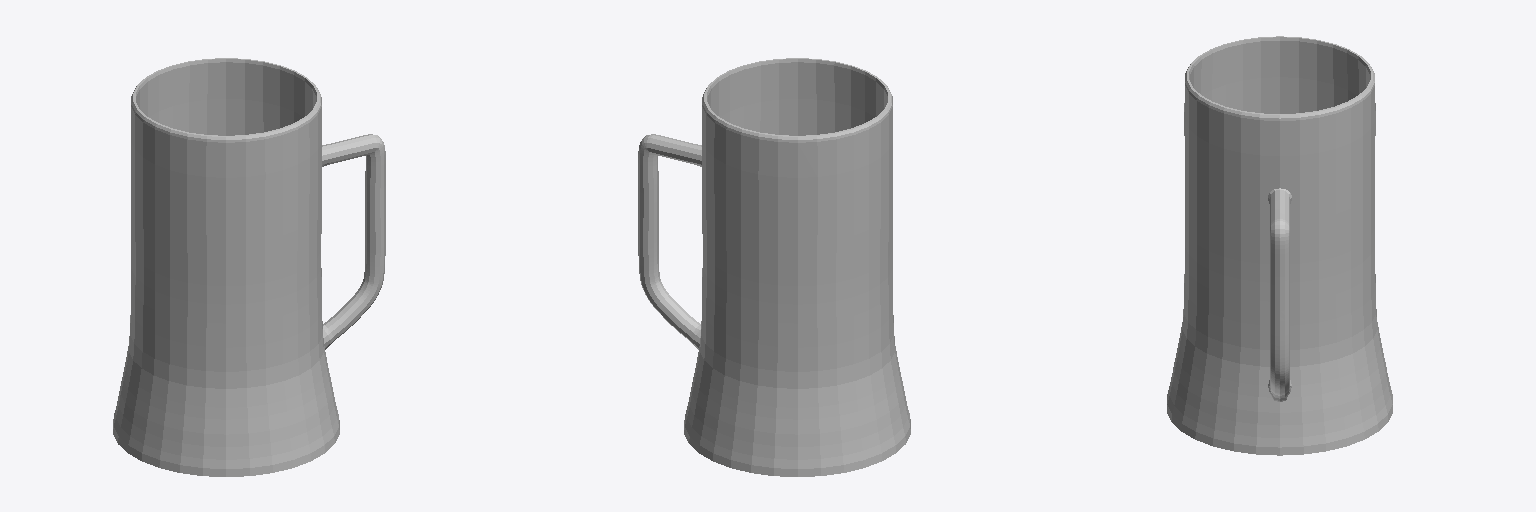
The model's file is boccale.obj.
3 views of the same model, side by side, from view 1: azimuth 30°, elevation 25°; view 2: azimuth 150°, elevation 25°; view 3: azimuth 270°, elevation 25° (orthographic).
Parts seen in each view (by area): view 1: Plane, BezierCurve; view 2: Plane, BezierCurve; view 3: Plane, BezierCurve.
Boxes of the visible parts, x1,y1,x2,y2 form: Plane: [113, 58, 339, 476]; BezierCurve: [322, 134, 385, 349]; Plane: [684, 58, 910, 476]; BezierCurve: [638, 134, 701, 349]; Plane: [1167, 36, 1392, 455]; BezierCurve: [1268, 188, 1291, 401].
Bounding box in the file's own units: 0.2205 × 0.2722 × 0.1688.